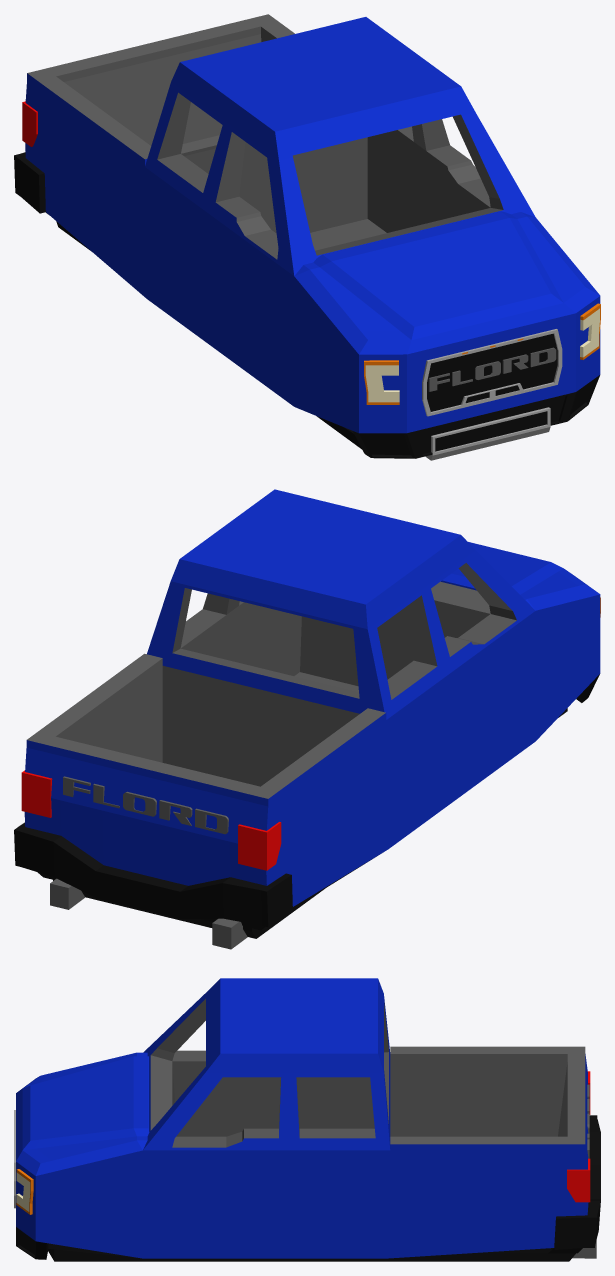
File: raptor.fbx
3 views of the same model, one above another, from view 1: azimuth 30°, elevation 25°; view 2: azimuth 150°, elevation 25°; view 3: azimuth 270°, elevation 25° (orthographic). The views are drawn at different scales.
Parts seen in each view (by area): view 1: Cube; view 2: Cube; view 3: Cube.
Boxes of the visible parts, bbox=[...] form: Cube: bbox=[14, 14, 600, 460]; Cube: bbox=[14, 489, 600, 949]; Cube: bbox=[14, 978, 600, 1261].
Bounding box in the file's own units: 269 × 253 × 655.
3 materials, 2 textured.
